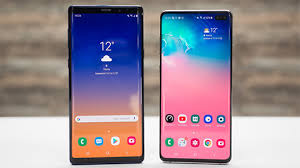samsung: (65, 2, 146, 166), (155, 7, 235, 165)
